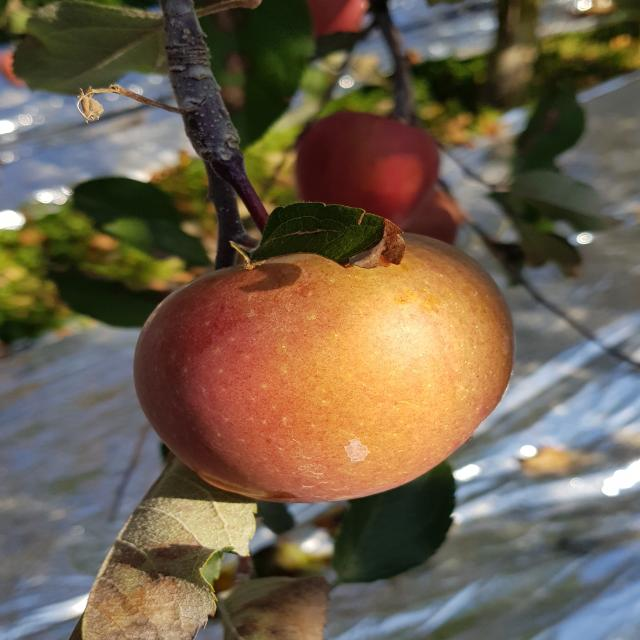fresh: (124, 227, 529, 510)
